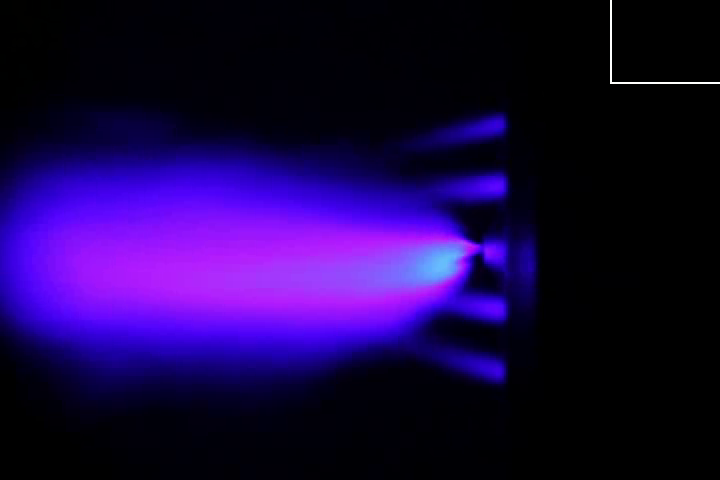burner cap: (480, 232, 510, 269)
pilot flame: (381, 113, 508, 152), (401, 344, 506, 381), (415, 170, 511, 198), (444, 294, 510, 324)
stable: (334, 225, 480, 302)
